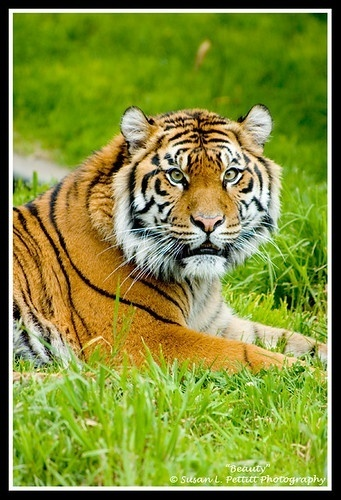tigre: (12, 98, 326, 380)
